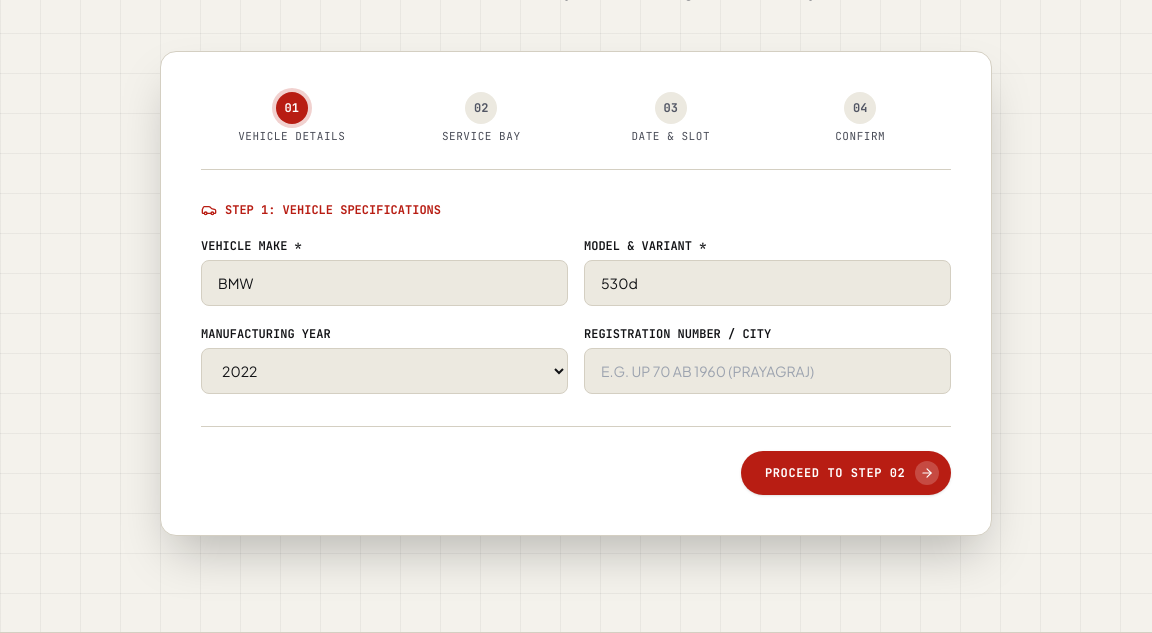
it: 5. Two-Way Booking Engine Stepper Flow › navigates through steps 1-4, validates inputs, and produces WhatsApp confirmation voucher
Earlier steps of the test are not shown.
(page scrolled)
Click the button "Proceed to Step 02" at [846, 472], box [741,450,951,494]
(page scrolled)
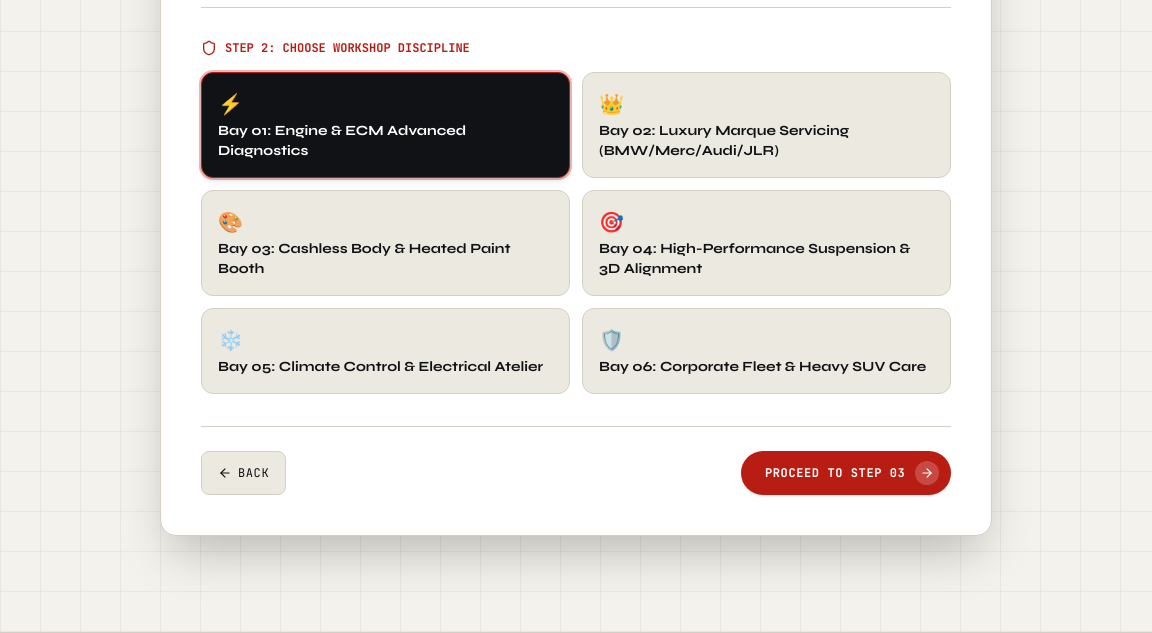
Now the text "Step 2: Choose Workshop Discipline" is shown, box [225,40,470,56]
Click the button "Proceed to Step 03" at [846, 472], box [741,450,951,494]
(page scrolled)
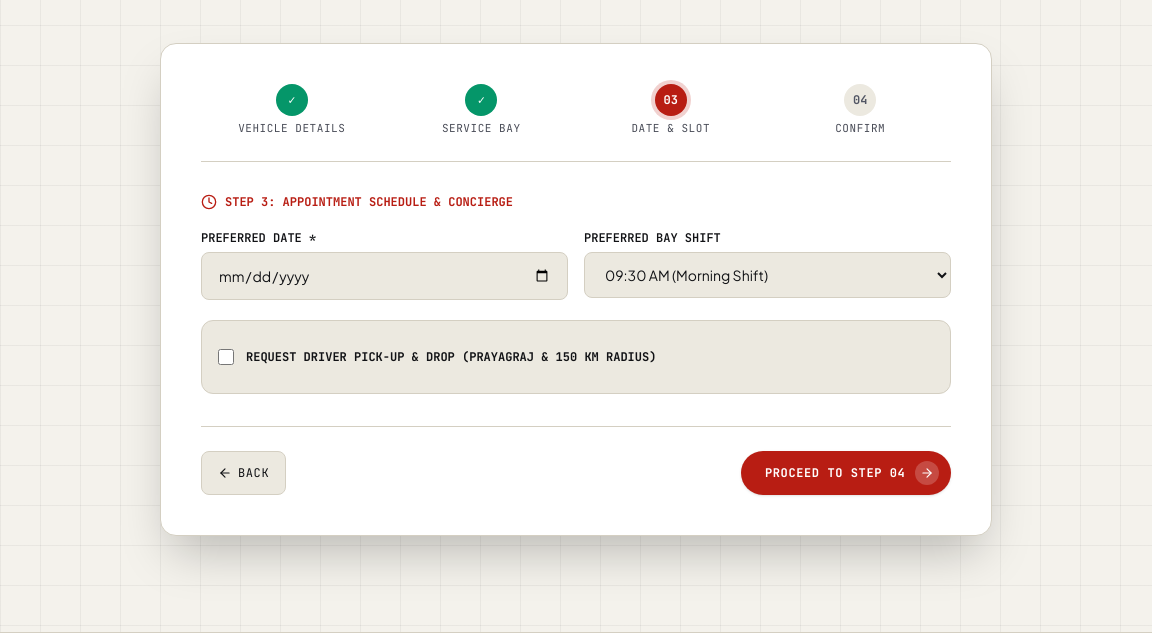
Now the text "Step 3: Appointment Schedule & Concierge" is shown, box [225,194,513,210]
Now the date field is shown
Type "2026-04-15" into the date field at [384, 276], box [201,252,568,300]
Click the button "Proceed to Step 04" at [846, 472], box [741,450,951,494]
(page scrolled)
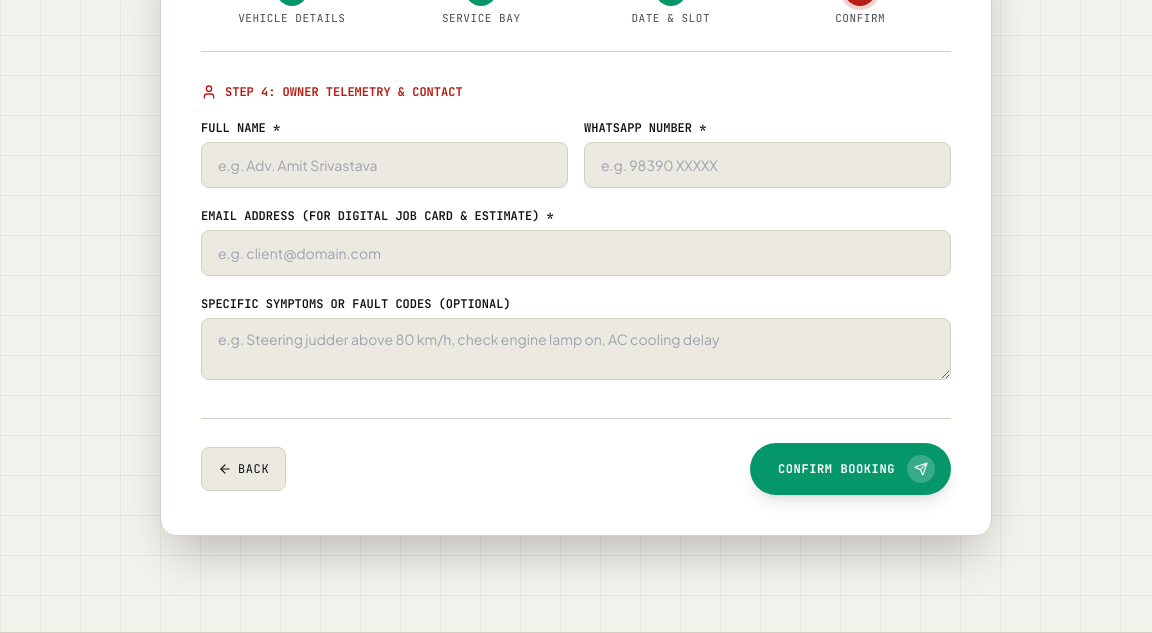
Now the text "Step 4: Owner Telemetry & Contact" is shown, box [225,84,463,100]
Type "Rajiv Sharma" into the field with placeholder "e.g. Adv. Amit Srivastava" at [384, 164], box [201,142,568,188]
Type "9876543210" into the field with placeholder "e.g. 98390 XXXXX" at [768, 164], box [584,142,951,188]
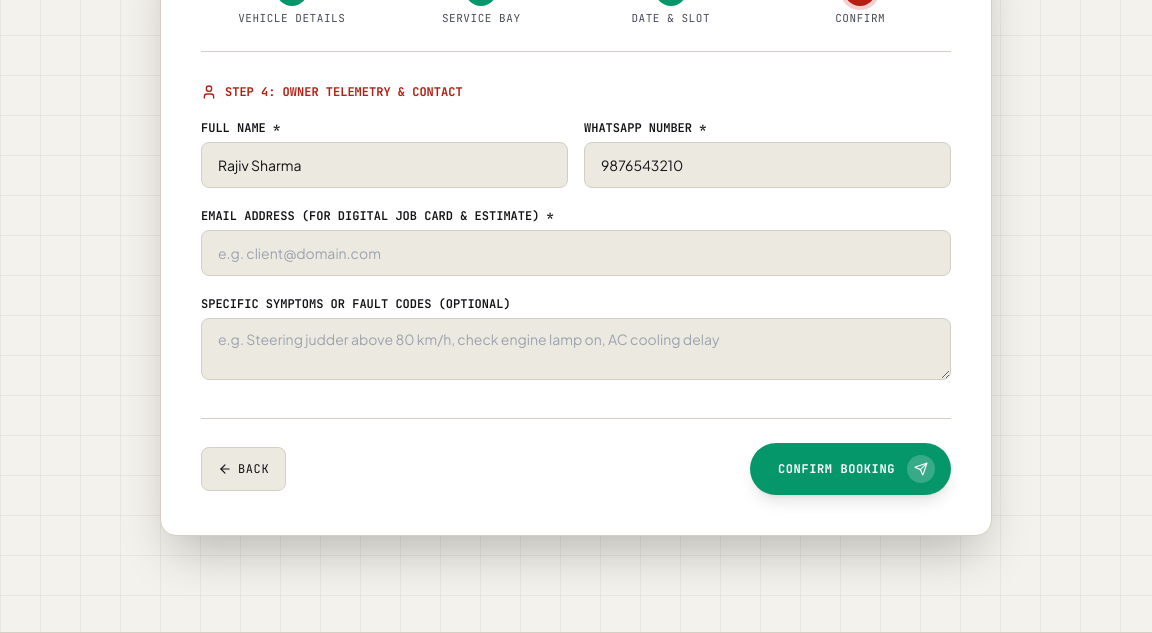
Type "rajiv@example.com" into the field with placeholder "e.g. client@domain.com" at [576, 252], box [201,230,951,276]
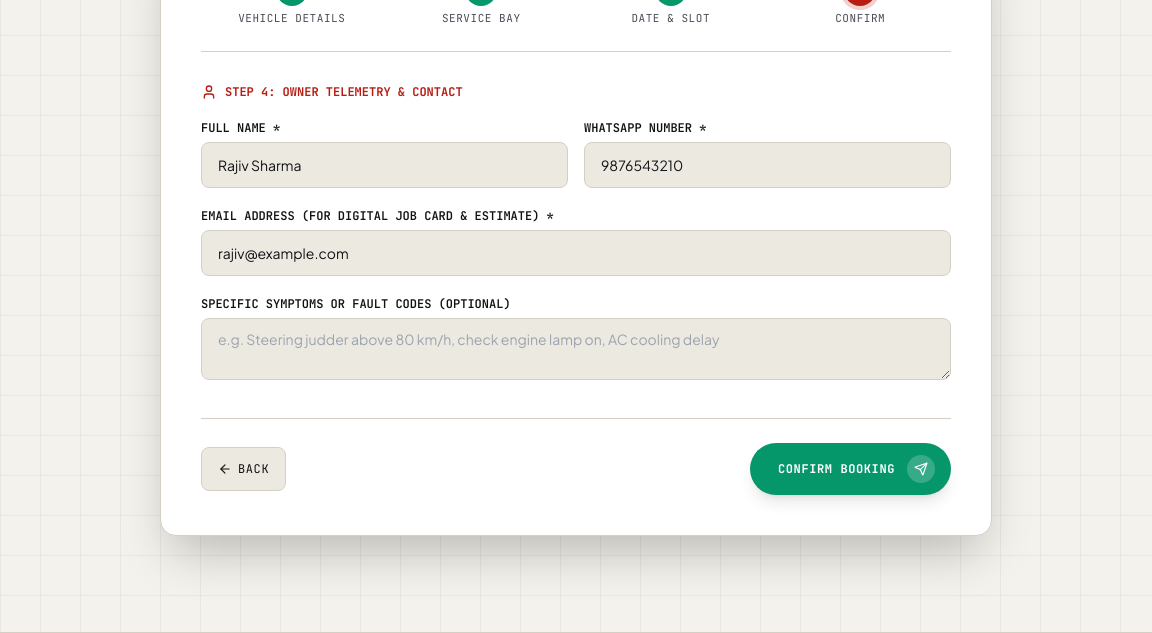
// Submit booking
Click the button "Confirm Booking" at [850, 468], box [750,442,951,494]
(page scrolled)
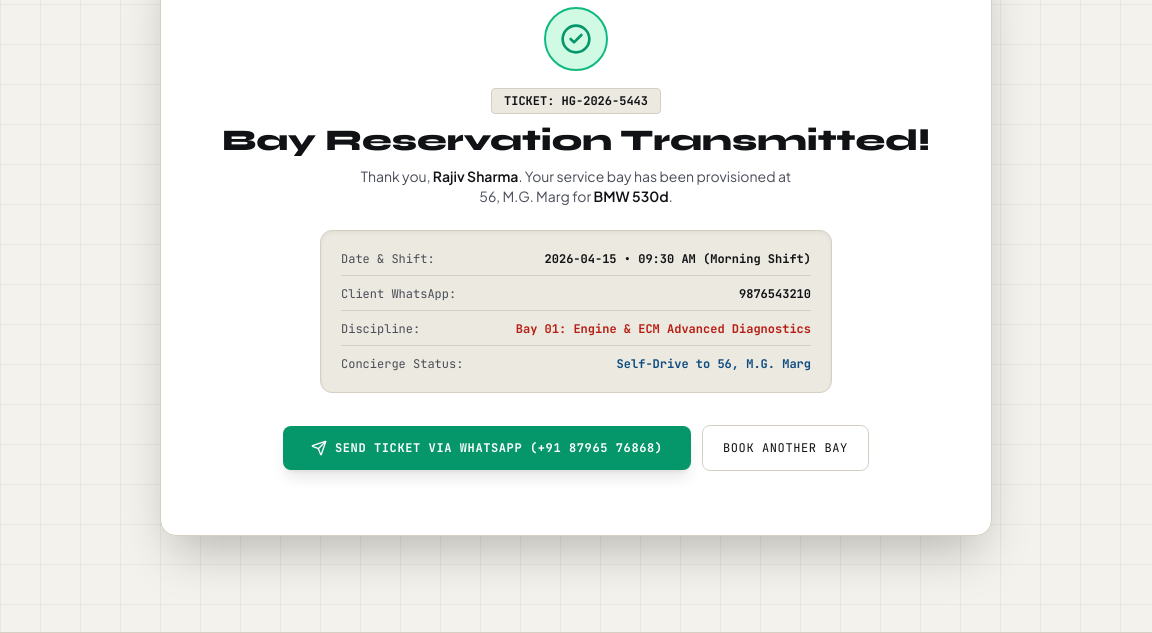
Now the heading "Bay Reservation Transmitted!" is shown, box [201,122,951,158]
Now the text "Rajiv Sharma" is shown, box [433,167,518,185]
Now the link "Send Ticket via WhatsApp (+91 87965 76868)" is shown, box [283,426,690,470]
